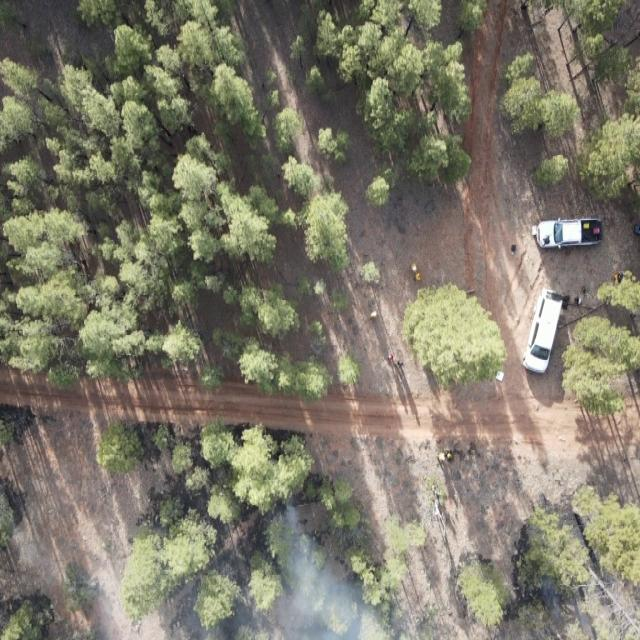smoke: (120, 572, 382, 640), (536, 570, 633, 640), (265, 500, 344, 572)
